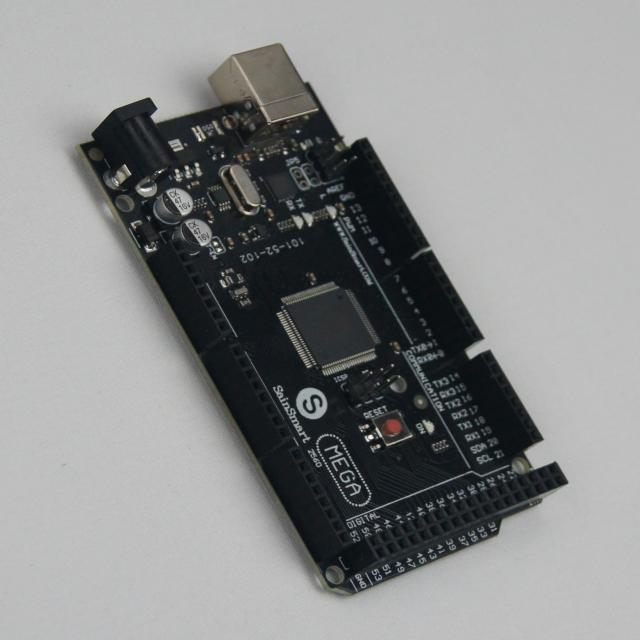Arduino Mega 2560 -Black-: (81, 45, 567, 594)
